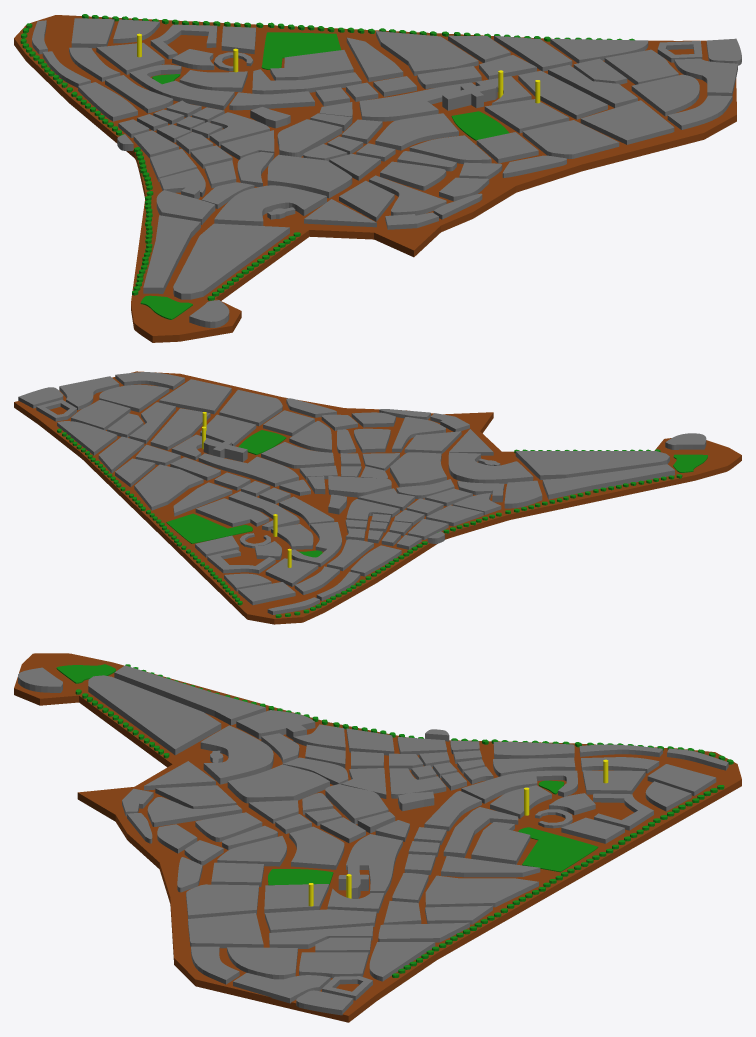
Rendered from pl_map_den_bosch.FBX.
The picture shows the model from 3 angles, top to bottom: view 1: azimuth 30°, elevation 25°; view 2: azimuth 150°, elevation 25°; view 3: azimuth 270°, elevation 25°; orthographic projection. The views are drawn at different scales.
Parts seen in each view (by area): view 1: Line001, Line004, Line014, Line073, Line010, Line038, Line003, Line037, Line046, Line040, Line071, Line095 (+62 smaller); view 2: Line001, Line004, Line003, Line014, Line073, Line046, Line010, Line038, Line037, Line095, Line040, Line083 (+57 smaller); view 3: Line001, Line004, Line003, Line073, Line014, Line010, Line038, Line037, Line040, Line046, Line095, Line071 (+58 smaller).
Boxes of the visible parts, left/top/right/bottom form: Line001: left=14, top=15, right=736, bottom=342; Line004: left=173, top=223, right=289, bottom=299; Line014: left=214, top=185, right=326, bottom=225; Line073: left=376, top=31, right=478, bottom=75; Line010: left=267, top=154, right=352, bottom=198; Line038: left=580, top=100, right=674, bottom=144; Line003: left=143, top=215, right=200, bottom=293; Line037: left=522, top=120, right=619, bottom=158; Line046: left=359, top=82, right=476, bottom=121; Line040: left=518, top=70, right=607, bottom=119; Line071: left=129, top=64, right=234, bottom=110; Line095: left=261, top=32, right=340, bottom=69; Line001: left=14, top=371, right=741, bottom=624; Line004: left=515, top=451, right=669, bottom=479; Line003: left=542, top=464, right=674, bottom=499; Line014: left=448, top=452, right=533, bottom=483; Line073: left=134, top=464, right=203, bottom=510; Line046: left=198, top=453, right=298, bottom=486; Line010: left=390, top=452, right=446, bottom=487; Line038: left=159, top=379, right=231, bottom=414; Line037: left=219, top=389, right=282, bottom=426; Line095: left=166, top=513, right=252, bottom=543; Line040: left=150, top=408, right=210, bottom=450; Line083: left=195, top=498, right=269, bottom=526; Line001: left=14, top=653, right=741, bottom=1022; Line004: left=88, top=675, right=221, bottom=755; Line003: left=114, top=665, right=265, bottom=725; Line073: left=425, top=875, right=538, bottom=907; Line014: left=200, top=725, right=273, bottom=784; Line010: left=227, top=764, right=329, bottom=803; Line038: left=188, top=913, right=263, bottom=948; Line037: left=186, top=884, right=258, bottom=918; Line040: left=265, top=909, right=376, bottom=932; Line046: left=346, top=834, right=402, bottom=895; Line095: left=518, top=827, right=598, bottom=872; Line071: left=461, top=770, right=577, bottom=803.
Size of the model in its own units: 43.47 by 1.84 by 36.87.
